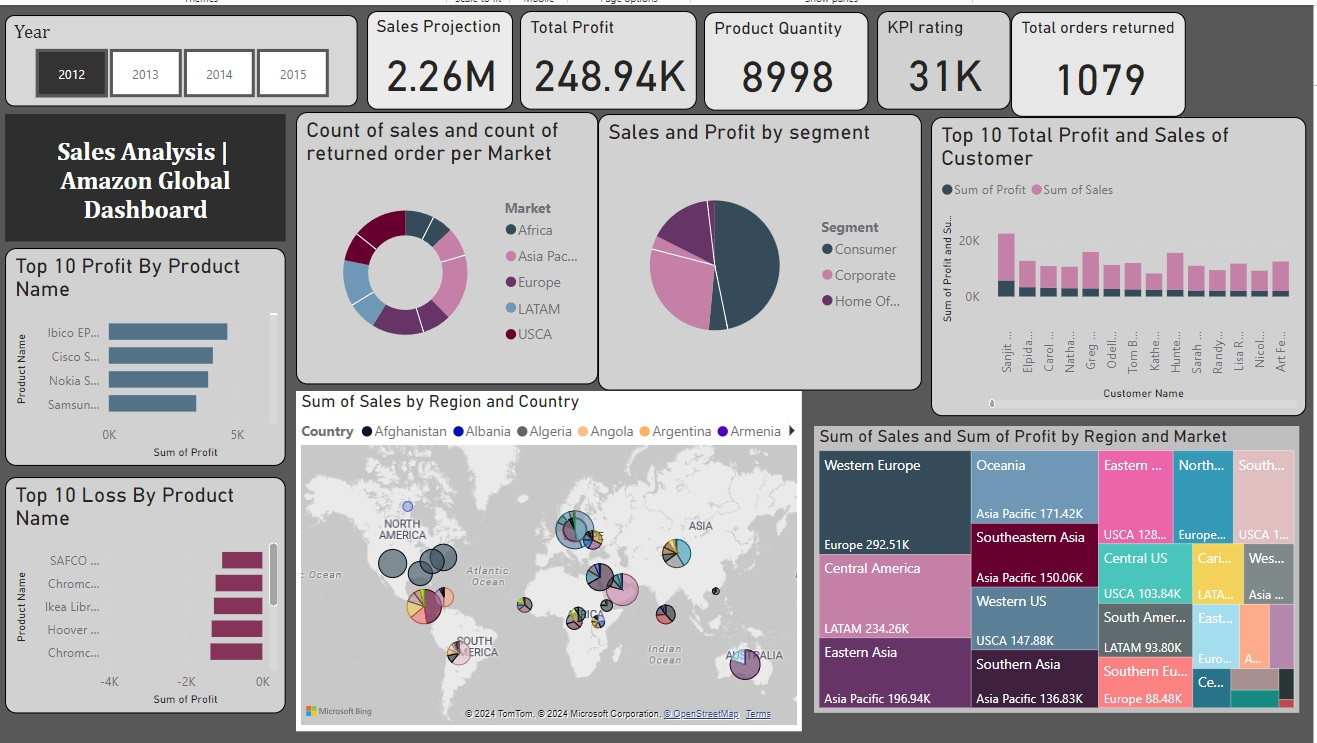

Layout of this report page (visuals, bound fields, positions):
{"tool":"powerbi","page":{"name":"Page 1","canvas":[1280,720],"ordinal":0},"visuals":[{"type":"slicer","title":"Year","fields":{"Values":["Orders.Order_Year"]},"box":[7.8,9.7,343.3,89.5],"z":0},{"type":"textbox","box":[7.8,106,273.3,123.5],"z":1000},{"type":"card","title":"Sales Projection","fields":{"Values":["Orders.Sales"]},"box":[359.9,5.8,142,96.3],"z":2000},{"type":"card","title":"Total Profit","fields":{"Values":["Orders.Profit"]},"box":[508.7,5.8,172.2,96.3],"z":3000},{"type":"card","title":"Product Quantity","fields":{"Values":["Orders.Product Name"]},"box":[687.7,6.8,160.5,96.3],"z":4000},{"type":"card","title":"KPI rating","fields":{"Values":["Orders.Quantity"]},"box":[855.9,5.8,130.3,96.3],"z":5000},{"type":"card","title":"Total orders returned","fields":{"Values":["Returns.Returned"]},"box":[986.3,6.8,170.2,102.1],"z":6000},{"type":"pieChart","title":"Sales and Profit by segment","fields":{"Y":["Orders.Sales","Orders.Profit"],"Category":["Orders.Segment"]},"box":[584.6,106,315.1,269.4],"z":7000},{"type":"treemap","fields":{"Values":["Orders.Sales"],"Group":["Orders.Region"],"Details":["Orders.Market"]},"box":[794.7,409.5,471.7,279.1],"z":8000},{"type":"donutChart","title":"Count of sales and count of returned order per Market","fields":{"Y":["Returns.Returned","Orders.Sales"],"Category":["Orders.Market"]},"box":[290.8,104.1,293.7,264.6],"z":9000},{"type":"columnChart","title":"Top 10 Total Profit and Sales of Customer","fields":{"Y":["Orders.Profit","Orders.Sales"],"Category":["Orders.Customer Name"]},"box":[908.4,108.9,364.7,290.8],"z":10000},{"type":"barChart","title":"Top 10 Profit By Product Name","fields":{"Category":["Orders.Product Name"],"Y":["Orders.Profit"]},"box":[7.8,236.4,273.3,212],"z":11000},{"type":"barChart","title":"Top 10 Loss By Product Name","fields":{"Category":["Orders.Product Name"],"Y":["Orders.Profit"]},"box":[7.8,459.1,273.3,229.5],"z":12000},{"type":"map","fields":{"Category":["Orders.Region"],"Size":["Orders.Sales"],"Series":["Orders.Country"]},"box":[290.8,375.4,492.2,330.7],"z":12001}]}

Visuals, with their boxes in screenshot pixels (x1, y1, x2, y2):
"Year" slicer: x1=8, y1=13, x2=356, y2=104
textbox: x1=8, y1=111, x2=285, y2=236
"Sales Projection" card: x1=365, y1=9, x2=509, y2=107
"Total Profit" card: x1=516, y1=9, x2=691, y2=107
"Product Quantity" card: x1=698, y1=10, x2=861, y2=108
"KPI rating" card: x1=868, y1=9, x2=1001, y2=107
"Total orders returned" card: x1=1001, y1=10, x2=1173, y2=114
"Sales and Profit by segment" pieChart: x1=593, y1=111, x2=913, y2=384
treemap - Orders.Sales x Orders.Region: x1=806, y1=419, x2=1285, y2=702
"Count of sales and count of returned order per Market" donutChart: x1=295, y1=109, x2=593, y2=378
"Top 10 Total Profit and Sales of Customer" columnChart: x1=922, y1=114, x2=1292, y2=409
"Top 10 Profit By Product Name" barChart: x1=8, y1=243, x2=285, y2=458
"Top 10 Loss By Product Name" barChart: x1=8, y1=469, x2=285, y2=702
map - Orders.Region x Orders.Sales: x1=295, y1=384, x2=794, y2=720
